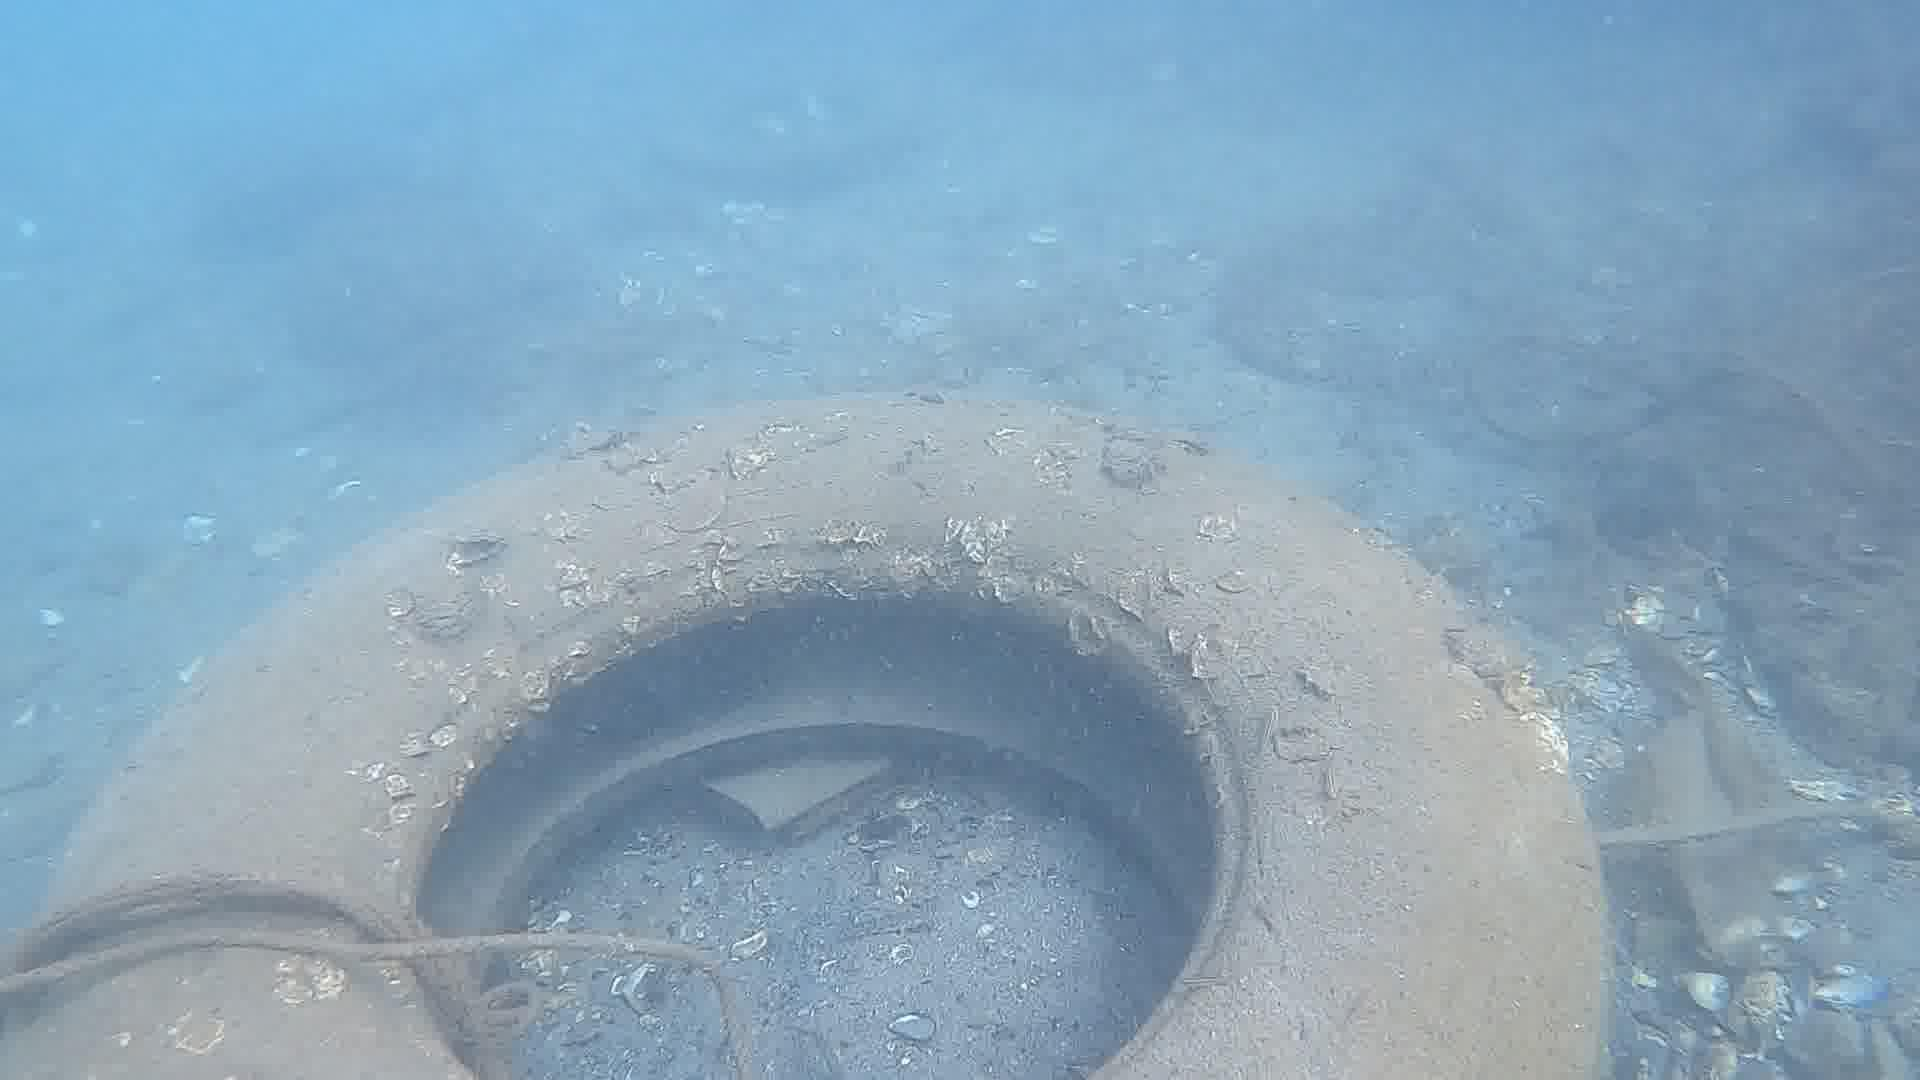bundle of ropes: (0, 868, 760, 1080)
tire: (0, 392, 1607, 1080)
